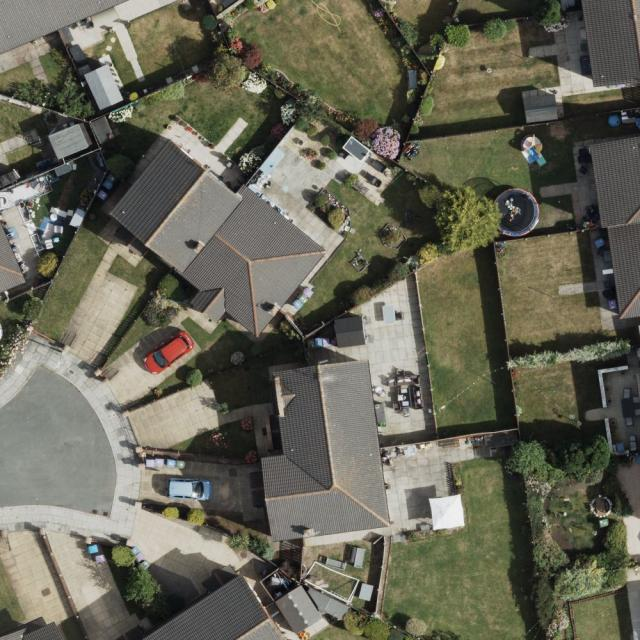roof: (110, 138, 328, 338), (261, 360, 390, 541), (140, 573, 284, 640), (589, 134, 640, 320), (0, 0, 130, 54), (581, 0, 640, 87), (0, 214, 28, 292)
